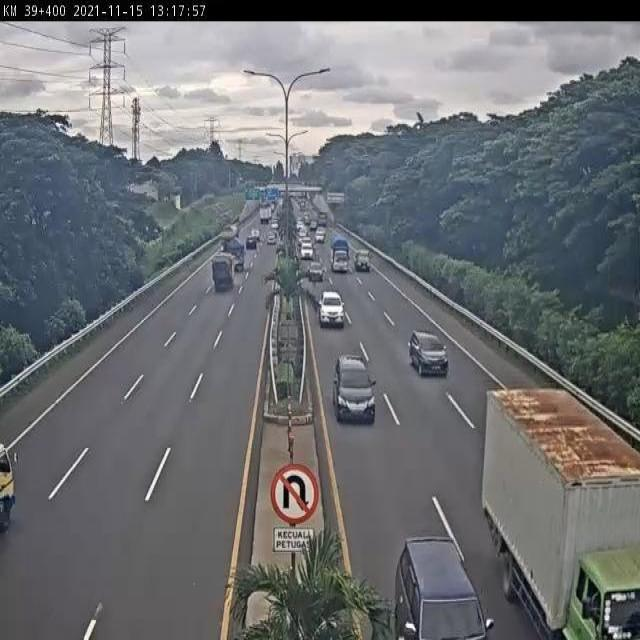Car: (392, 536, 490, 638), (332, 351, 376, 423), (407, 331, 449, 377), (0, 443, 15, 529), (318, 290, 345, 328), (354, 250, 370, 272), (308, 262, 324, 282), (300, 240, 314, 260), (315, 227, 326, 243), (267, 231, 276, 244)
Truck: (482, 390, 640, 639), (212, 253, 236, 291), (222, 237, 245, 271), (332, 238, 349, 274)
